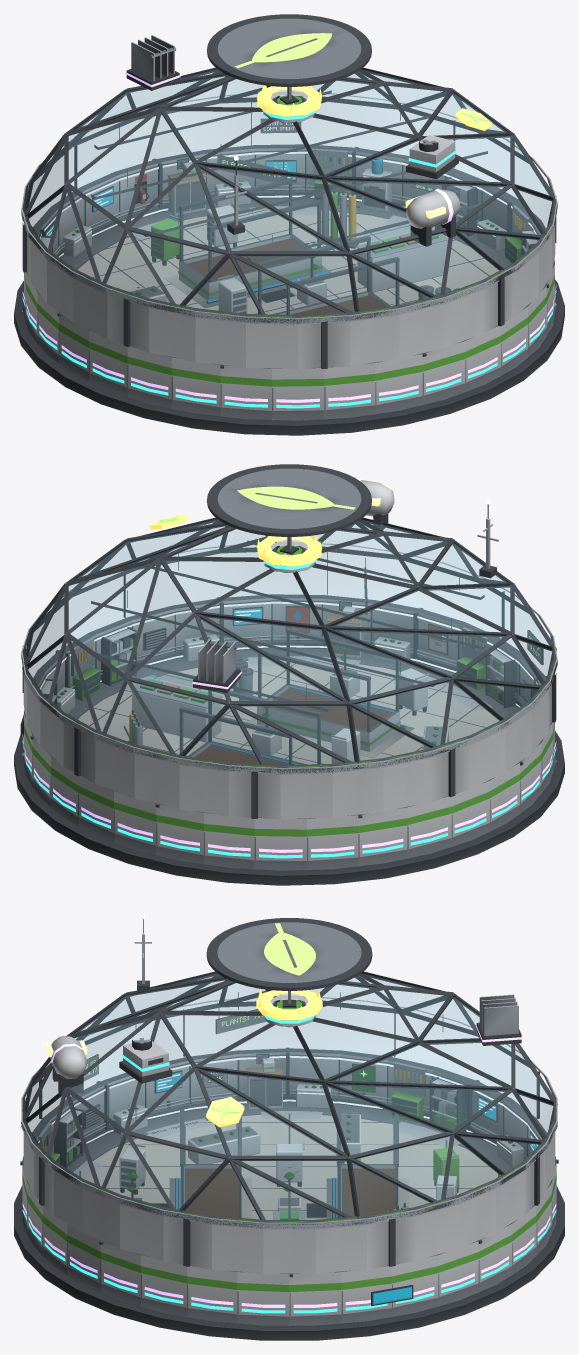
File: greenhouse_s.glb
The picture shows the model from 3 angles, top to bottom: view 1: azimuth 30°, elevation 25°; view 2: azimuth 150°, elevation 25°; view 3: azimuth 270°, elevation 25°; orthographic projection.
Parts seen in each view (by area): view 1: Roof, Base, Interior, L4, Tall_01, RoofCeil, Upper_21, Wall_21, Upper_20, Wall_20, Upper_22, Wall_22 (+43 smaller); view 2: Roof, Base, Interior, Tall_01, RoofCeil, L4, Upper_10, Wall_10, Upper_11, Wall_11, Upper_09, Wall_09 (+42 smaller); view 3: Roof, Base, Interior, L4, Wall_16, Wall_00, Wall_31, Upper_30, Upper_31, Upper_01, Upper_00, Wall_30 (+42 smaller).
Part boxes in pixels (bbox=[...]): Roof: bbox=[22, 14, 556, 322]; Base: bbox=[14, 198, 564, 435]; Interior: bbox=[127, 178, 434, 315]; L4: bbox=[125, 35, 460, 246]; Tall_01: bbox=[356, 220, 448, 292]; RoofCeil: bbox=[91, 90, 487, 261]; Upper_21: bbox=[272, 318, 324, 369]; Wall_21: bbox=[272, 367, 324, 420]; Upper_20: bbox=[220, 315, 272, 368]; Wall_20: bbox=[220, 364, 271, 420]; Upper_22: bbox=[324, 313, 375, 368]; Wall_22: bbox=[324, 362, 374, 419]; Roof: bbox=[22, 464, 556, 772]; Base: bbox=[14, 648, 564, 885]; Interior: bbox=[126, 628, 492, 765]; Tall_01: bbox=[130, 663, 222, 742]; RoofCeil: bbox=[91, 540, 487, 711]; L4: bbox=[192, 478, 394, 692]; Upper_10: bbox=[254, 768, 306, 819]; Wall_10: bbox=[254, 817, 306, 870]; Upper_11: bbox=[306, 765, 358, 818]; Wall_11: bbox=[307, 814, 358, 870]; Upper_09: bbox=[204, 763, 254, 818]; Wall_09: bbox=[204, 812, 254, 869]; Roof: bbox=[21, 918, 557, 1227]; Base: bbox=[14, 1102, 564, 1340]; Interior: bbox=[73, 1109, 460, 1218]; L4: bbox=[45, 994, 522, 1094]; Wall_16: bbox=[237, 1047, 289, 1109]; Wall_00: bbox=[289, 1271, 341, 1325]; Wall_31: bbox=[237, 1271, 289, 1325]; Upper_30: bbox=[186, 1215, 237, 1271]; Upper_31: bbox=[237, 1222, 289, 1274]; Upper_01: bbox=[341, 1215, 392, 1271]; Upper_00: bbox=[289, 1223, 341, 1274]; Wall_30: bbox=[187, 1265, 237, 1323].
Size of the model in its own units: 12.64 by 6.88 by 12.64.
